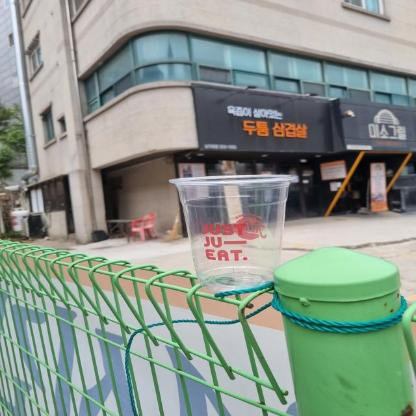Plastic Cup: (168, 171, 296, 291)
